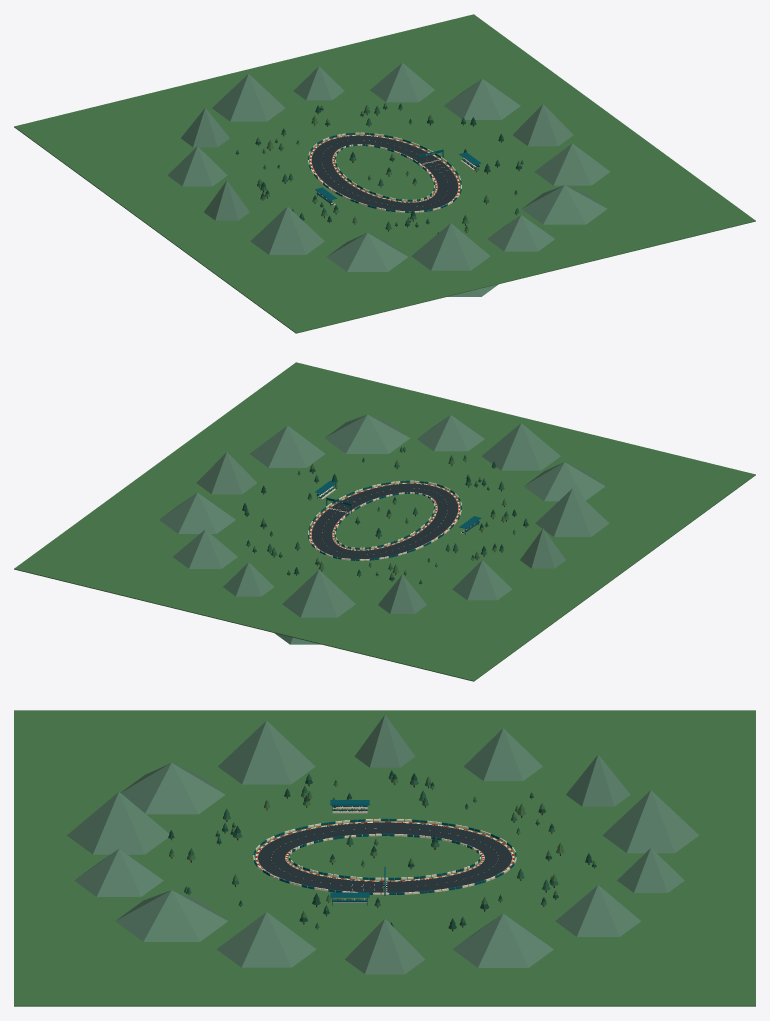
File: oval_course.glb
3 renders of one model, top to bottom at view 1: azimuth 30°, elevation 25°; view 2: azimuth 150°, elevation 25°; view 3: azimuth 270°, elevation 25°, orthographic. The views are drawn at different scales.
Visible parts, largest first — view 1: Ground; view 2: Ground; view 3: Ground.
Part boxes in pixels (left/top/right/bottom): Ground: left=14, top=14, right=755, bottom=333; Ground: left=14, top=362, right=755, bottom=681; Ground: left=14, top=710, right=755, bottom=1006.
Bounding box in the file's own units: 320 × 36.52 × 340.
